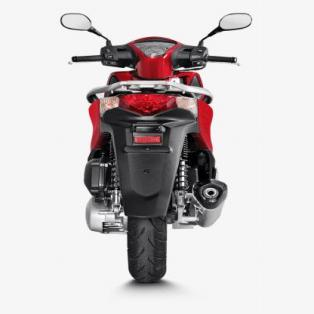Motocicleta: (47, 4, 256, 286)
